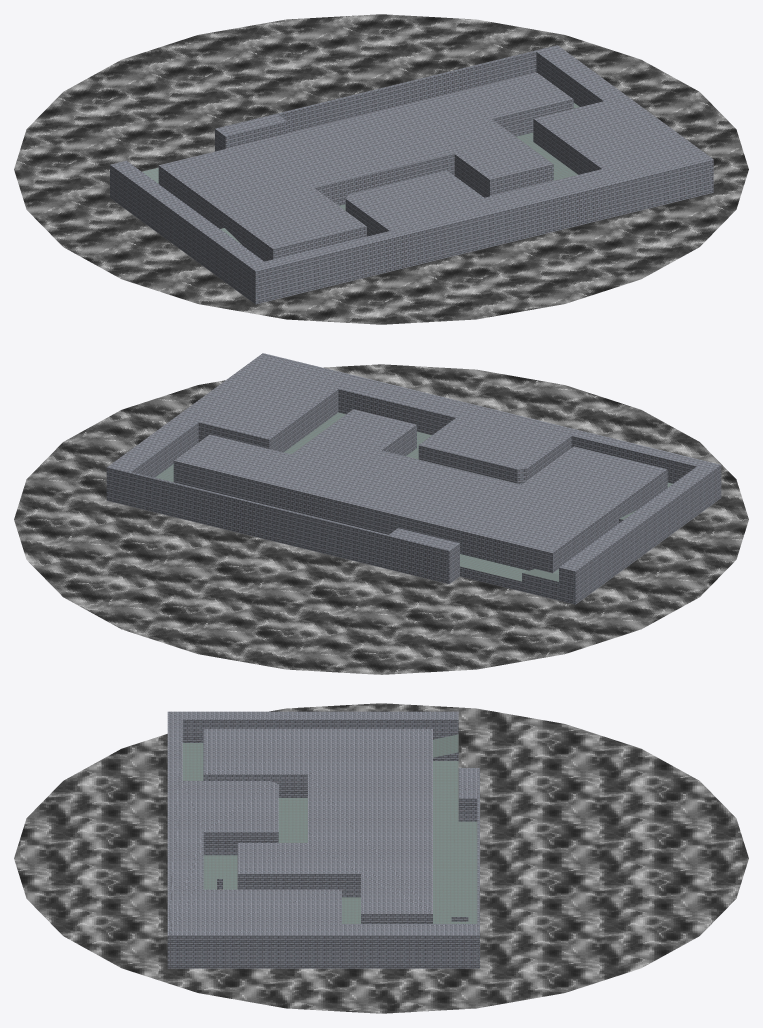
The picture shows the model from 3 angles, top to bottom: view 1: azimuth 30°, elevation 25°; view 2: azimuth 150°, elevation 25°; view 3: azimuth 270°, elevation 25°; orthographic projection.
Visible parts, largest first — view 1: Thwomp_s_Lava_Castle_SKP__Lava, Thwomp_s_Lava_Castle_SKP__Wall, Thwomp_s_Lava_Castle_SKP__Road; view 2: Thwomp_s_Lava_Castle_SKP__Lava, Thwomp_s_Lava_Castle_SKP__Wall, Thwomp_s_Lava_Castle_SKP__Road; view 3: Thwomp_s_Lava_Castle_SKP__Lava, Thwomp_s_Lava_Castle_SKP__Wall, Thwomp_s_Lava_Castle_SKP__Road.
Boxes of the visible parts, x1=… form: Thwomp_s_Lava_Castle_SKP__Lava: x1=14, y1=14, x2=748, y2=324; Thwomp_s_Lava_Castle_SKP__Wall: x1=110, y1=45, x2=713, y2=304; Thwomp_s_Lava_Castle_SKP__Road: x1=142, y1=103, x2=579, y2=244; Thwomp_s_Lava_Castle_SKP__Lava: x1=14, y1=364, x2=748, y2=674; Thwomp_s_Lava_Castle_SKP__Wall: x1=106, y1=353, x2=721, y2=604; Thwomp_s_Lava_Castle_SKP__Road: x1=155, y1=412, x2=672, y2=581; Thwomp_s_Lava_Castle_SKP__Lava: x1=14, y1=703, x2=748, y2=1013; Thwomp_s_Lava_Castle_SKP__Wall: x1=167, y1=711, x2=479, y2=968; Thwomp_s_Lava_Castle_SKP__Road: x1=182, y1=734, x2=477, y2=923.
Bounding box in the file's own units: 100000 × 5000 × 100000.
Materials: 6 (5 with a texture image).
